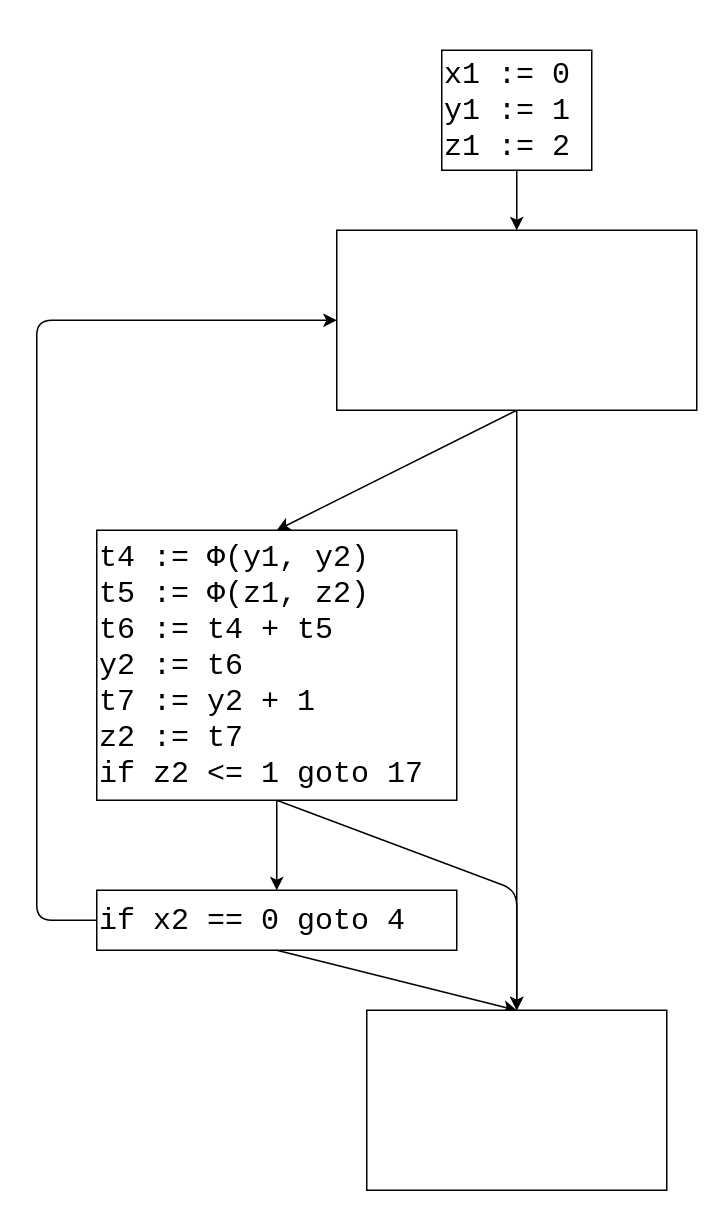
Image size: 723x1217. Some labels were removed from this diagram. The centre of each missing label's shape, as x and y in pixels:
"t1 := Ф(x1, x2) t2 := t1 - 1 x2 := t2 t3 := Ф(z1, z2) if t3 != 0 goto 17" belongs at [516,319].
"t8 := Ф(y1, y2) t9 := Ф(z1, z2) t10 := t9 - t8 x3 := t10" belongs at [516,1099].
